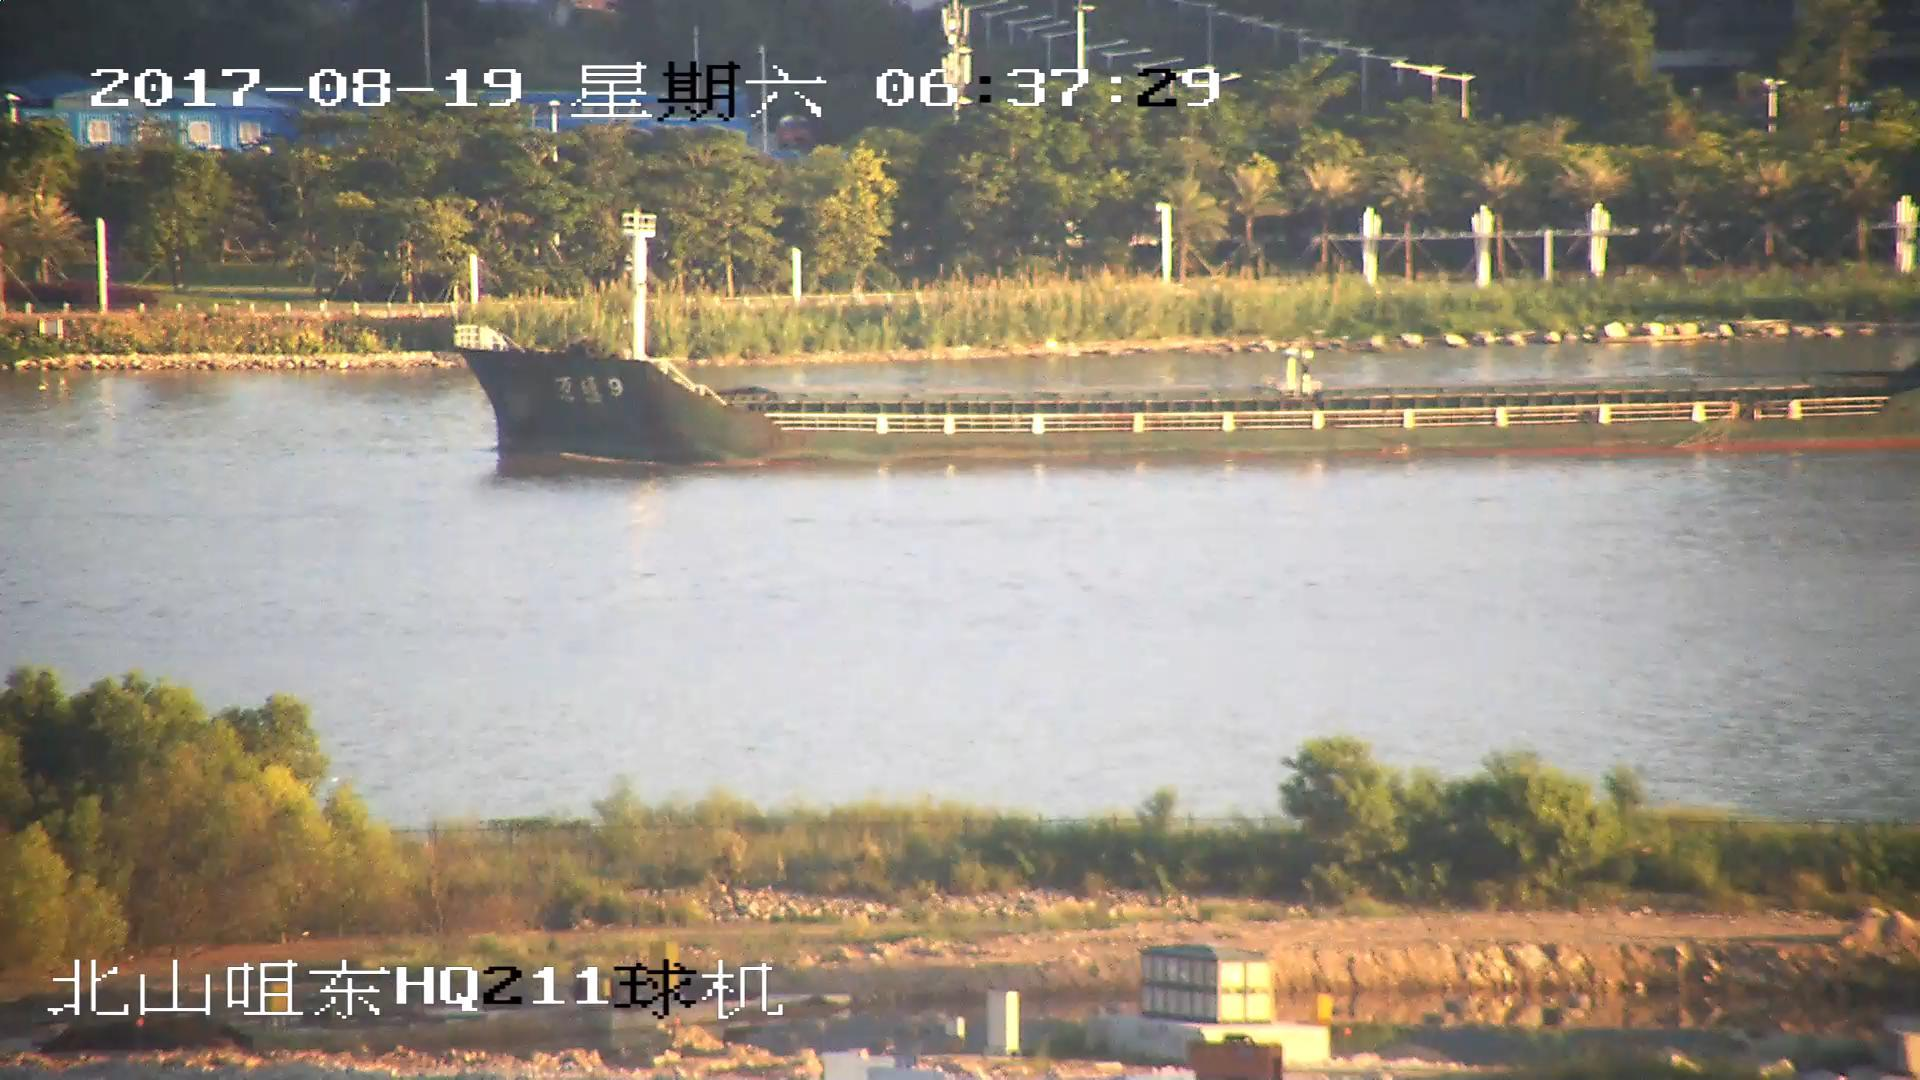Ship: (450, 222, 1920, 465)
